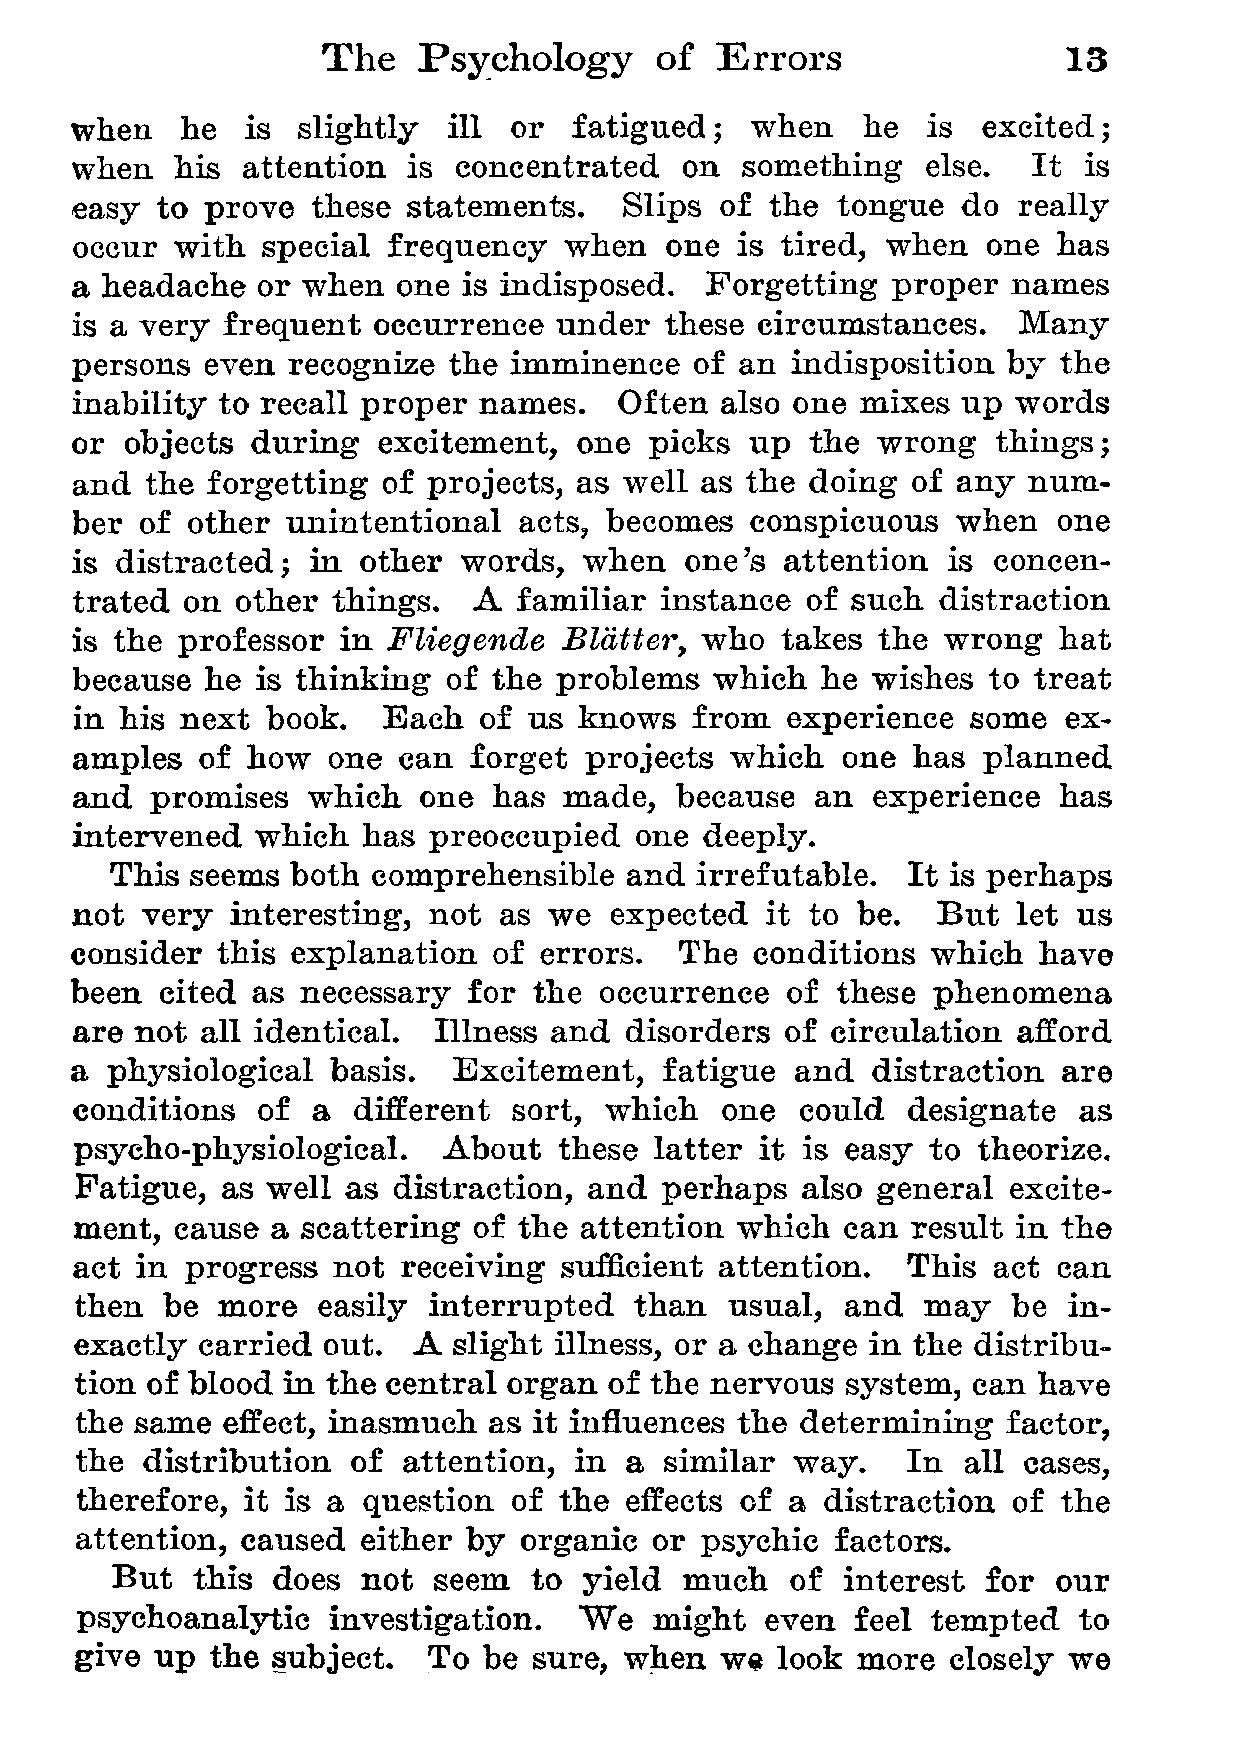content: (64, 103, 1115, 1678)
content_chapter: (315, 36, 845, 82)
content_pagenumber: (1057, 38, 1110, 74)
